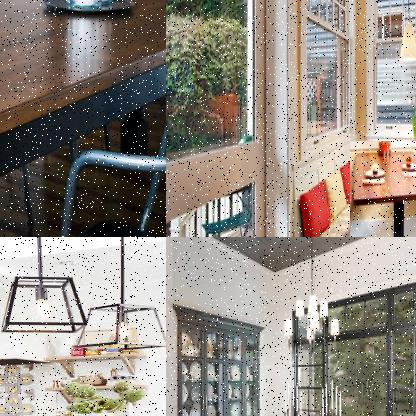table: (0, 0, 165, 236), (350, 141, 415, 236)
